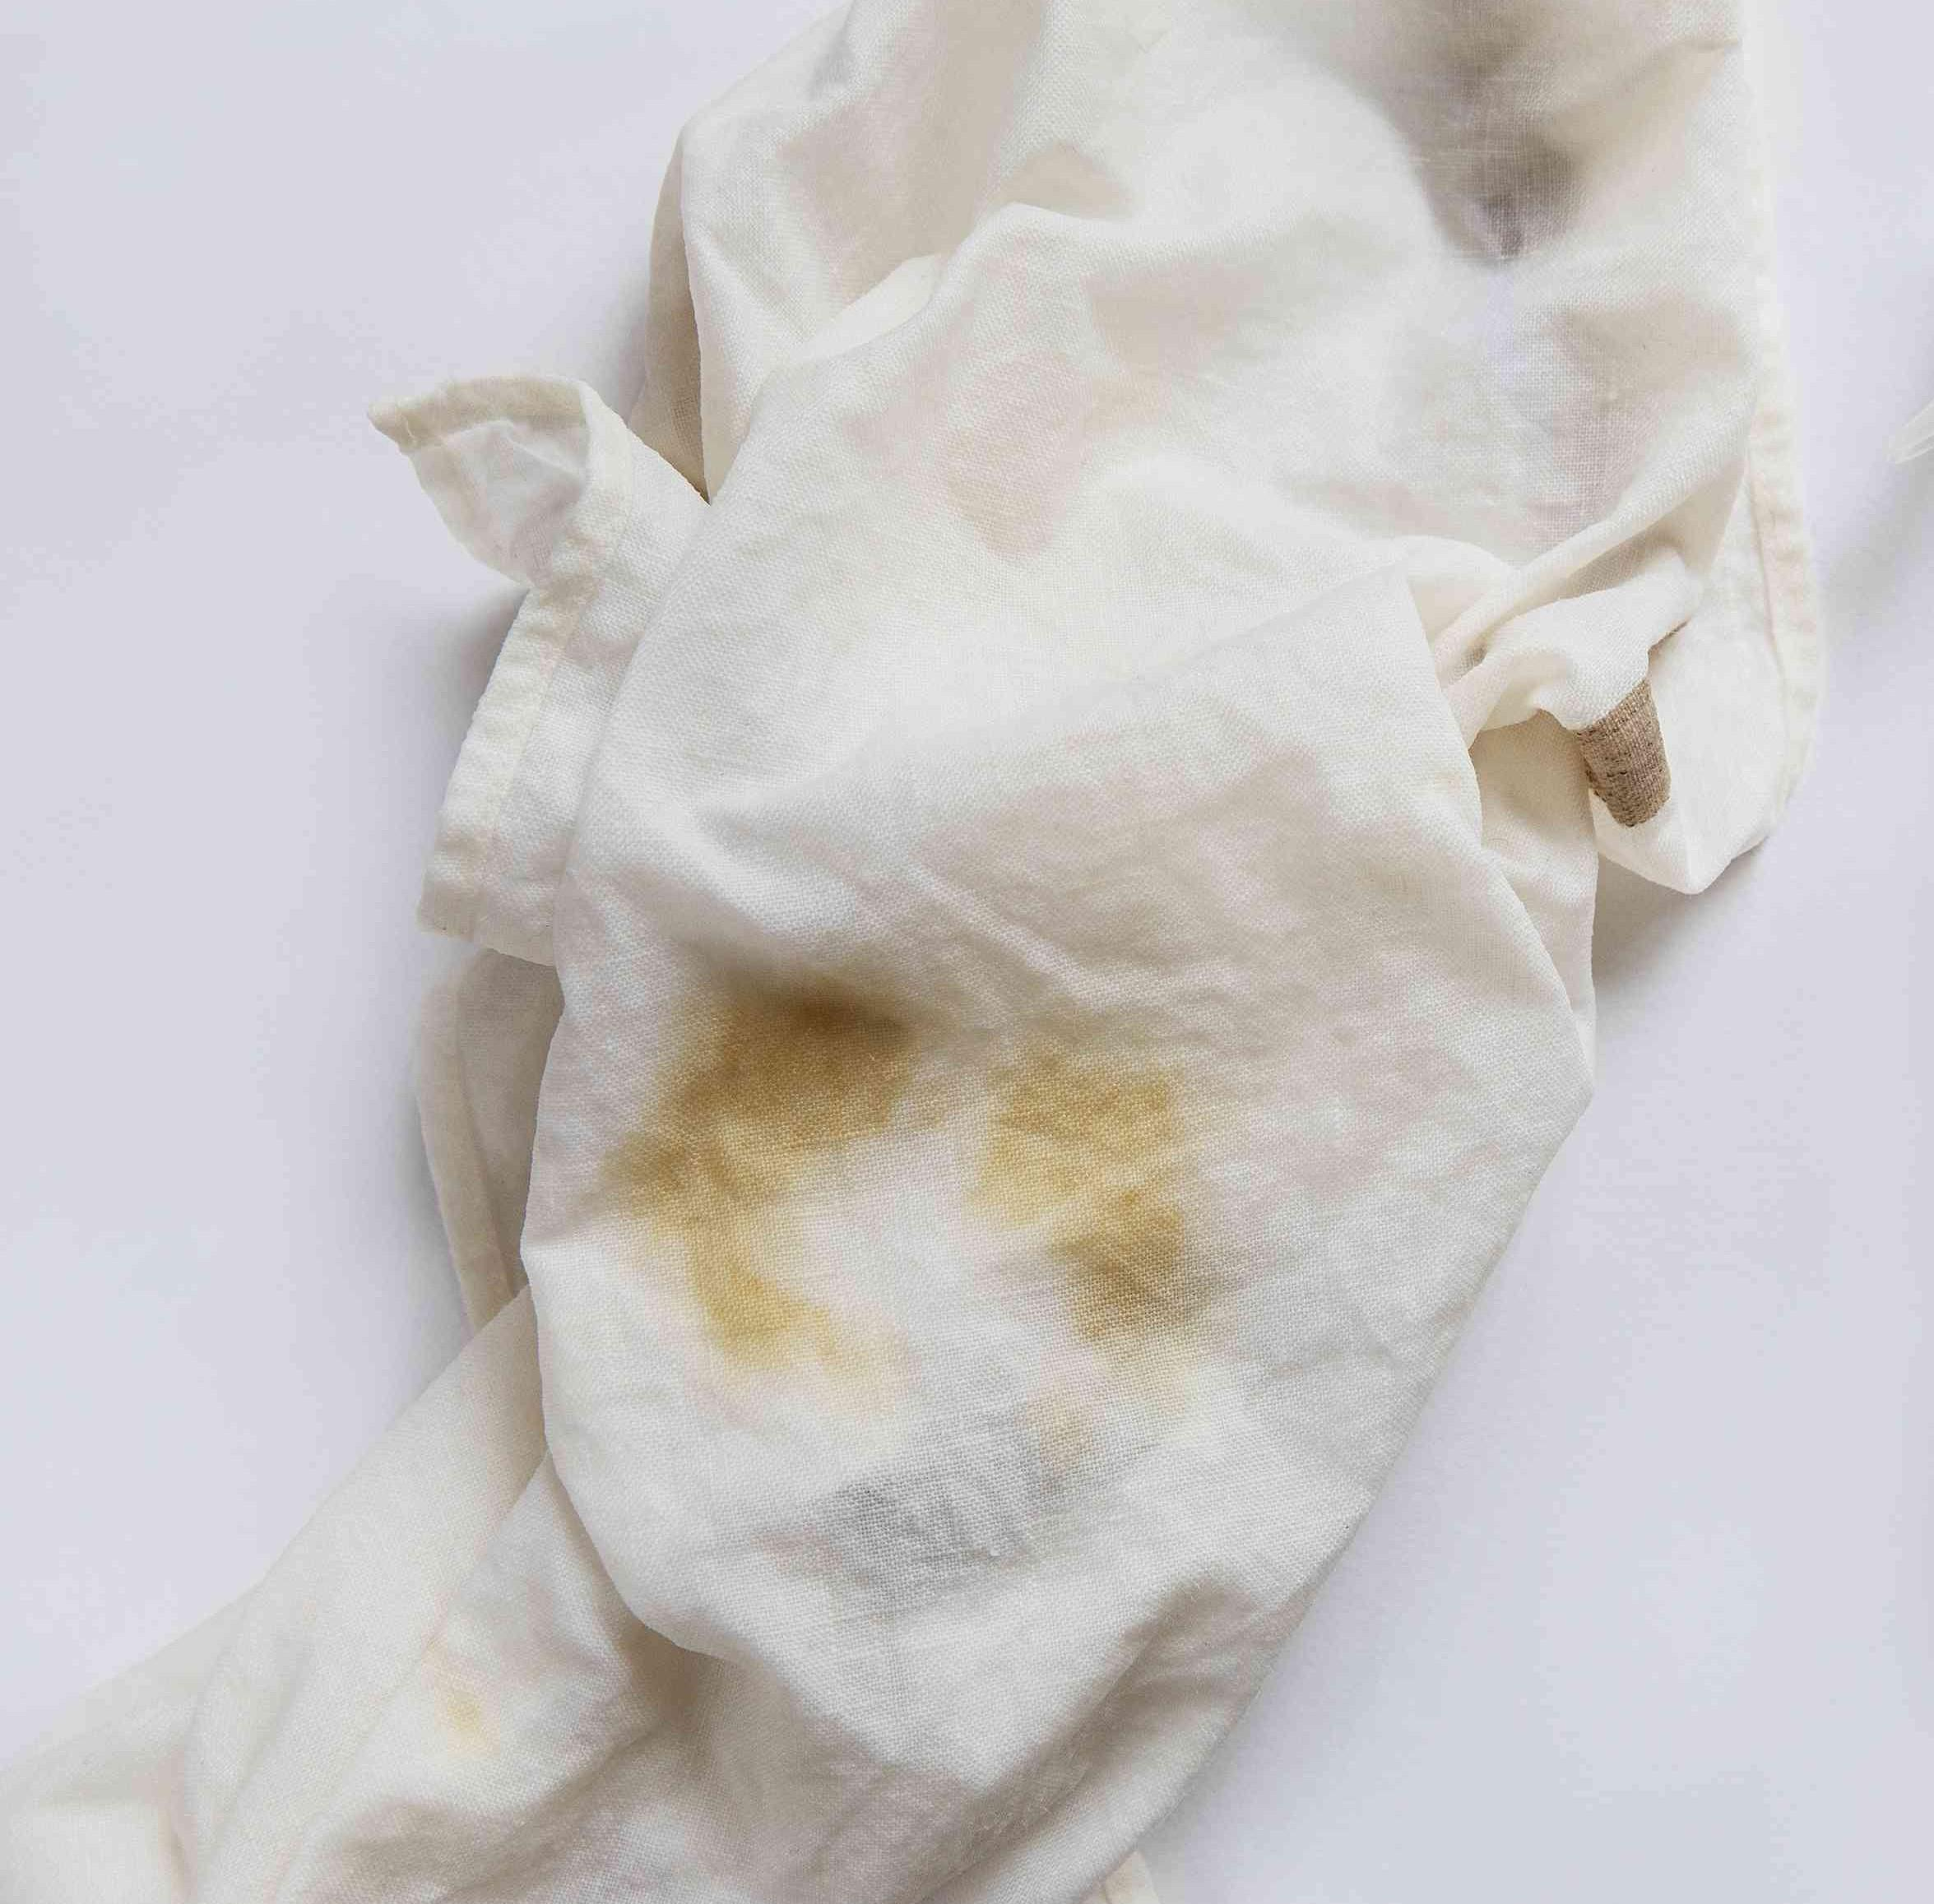gun: (621, 912, 1217, 1374)
